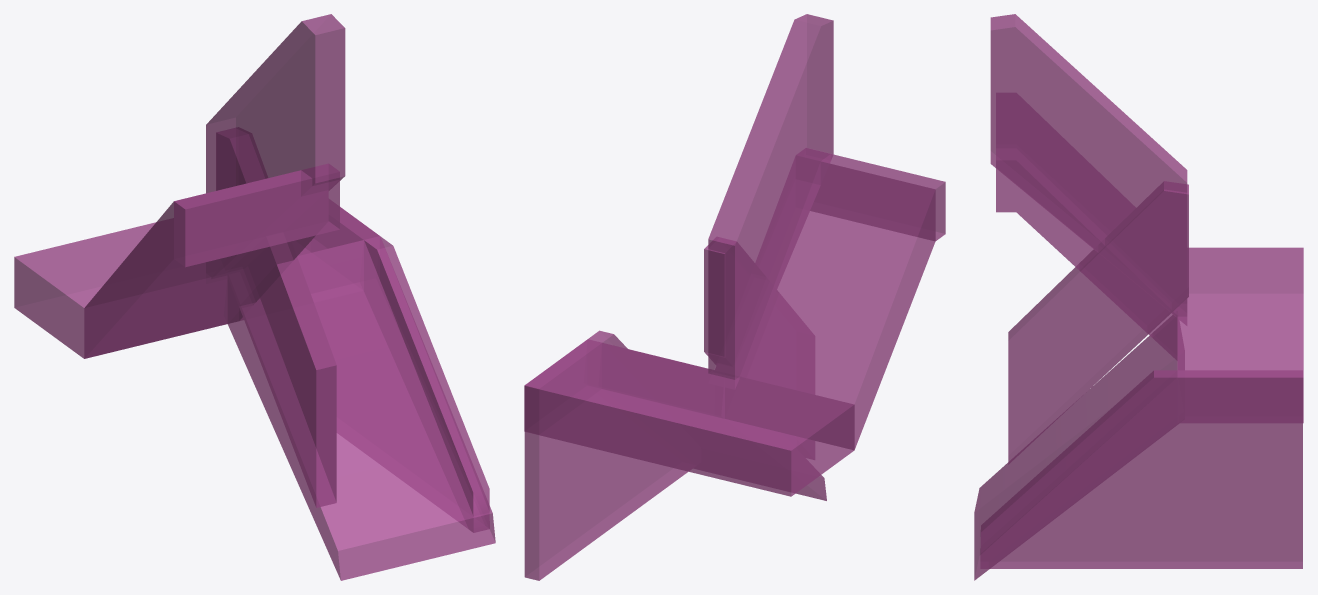
Rendered from SM_Bld_Stairs_01_Collision.fbx.
3 views of the same model, side by side, from view 1: azimuth 30°, elevation 25°; view 2: azimuth 150°, elevation 25°; view 3: azimuth 270°, elevation 25° (orthographic). The views are drawn at different scales.
Parts seen in each view (by area): view 1: SM_Bld_Stairs_01_Collision; view 2: SM_Bld_Stairs_01_Collision; view 3: SM_Bld_Stairs_01_Collision.
Boxes of the visible parts, box(x1,y1,x2,y2) form: SM_Bld_Stairs_01_Collision: box(14, 14, 495, 580); SM_Bld_Stairs_01_Collision: box(524, 14, 945, 580); SM_Bld_Stairs_01_Collision: box(974, 14, 1303, 580).
Size of the model in its own units: 261 by 457 by 278.
